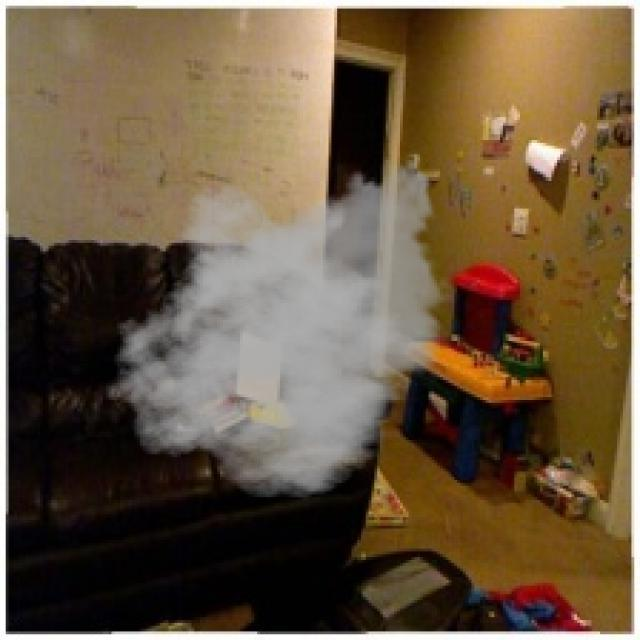Smoke: (102, 148, 454, 501)
